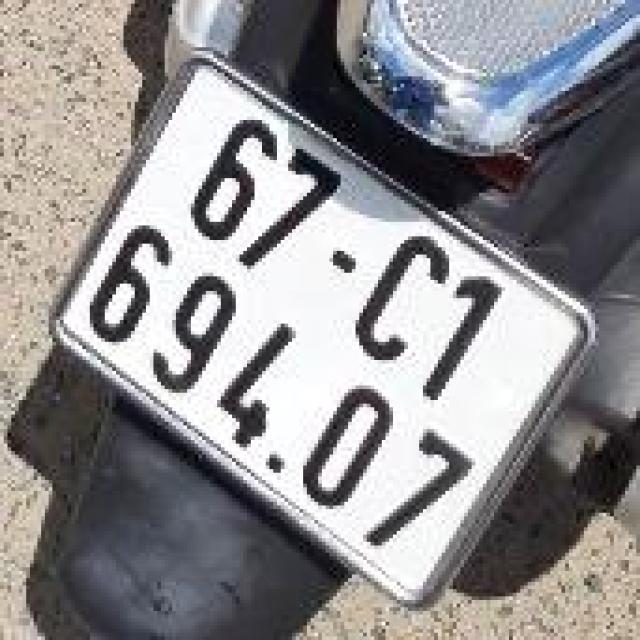0: (283, 365, 410, 527)
1: (401, 256, 528, 424)
4: (199, 302, 341, 464)
6: (173, 100, 298, 264), (66, 215, 199, 364)
7: (341, 413, 487, 573), (217, 136, 360, 285)
9: (131, 262, 255, 413)
C: (333, 218, 466, 380)
